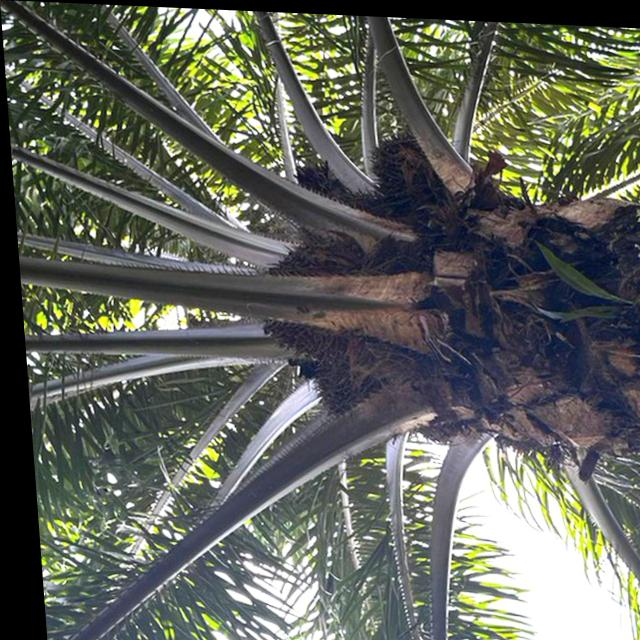ripe: (241, 234, 371, 370)
